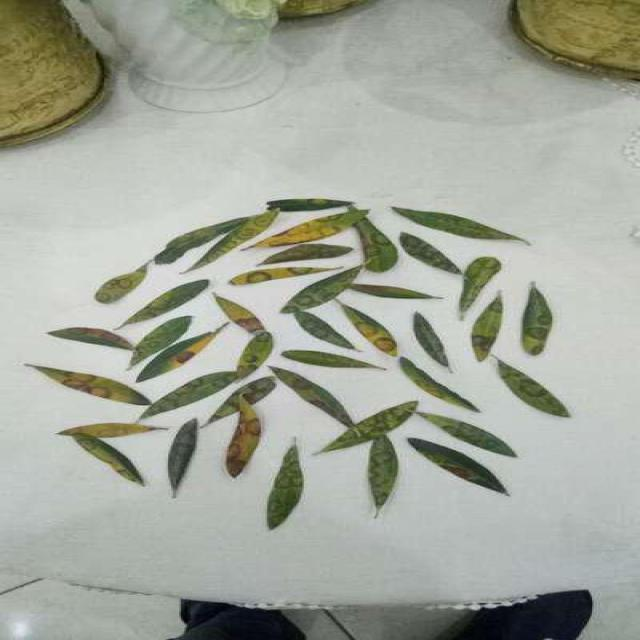Peacock Eye: (186, 210, 278, 272), (408, 438, 507, 494), (270, 367, 354, 428), (320, 401, 416, 453), (395, 207, 528, 244), (248, 209, 368, 250), (29, 365, 150, 405), (142, 371, 237, 418), (136, 329, 221, 381), (418, 411, 515, 456), (120, 280, 208, 328), (400, 357, 477, 411), (498, 361, 568, 417), (282, 266, 360, 312), (77, 437, 142, 484), (130, 316, 190, 366), (341, 302, 395, 356), (267, 445, 302, 528), (226, 395, 261, 477), (400, 234, 459, 275), (366, 435, 397, 512), (461, 257, 499, 317), (166, 419, 195, 496), (228, 267, 341, 286), (358, 218, 397, 273), (94, 263, 147, 303), (522, 286, 552, 356), (296, 313, 352, 348), (48, 327, 133, 350), (472, 294, 499, 361), (235, 331, 272, 378), (58, 423, 166, 438)
